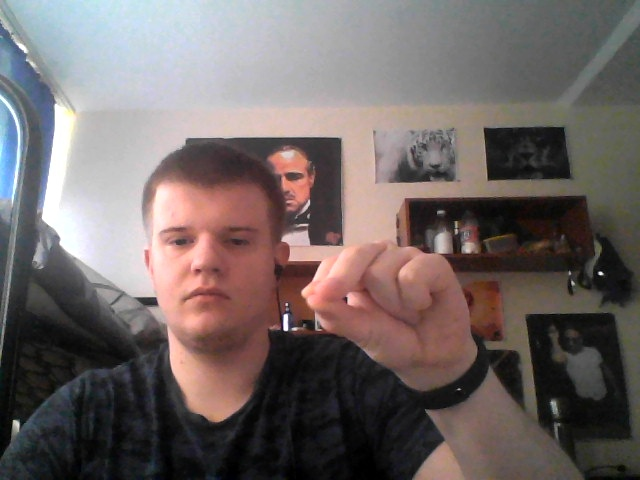no: (297, 239, 473, 368)
